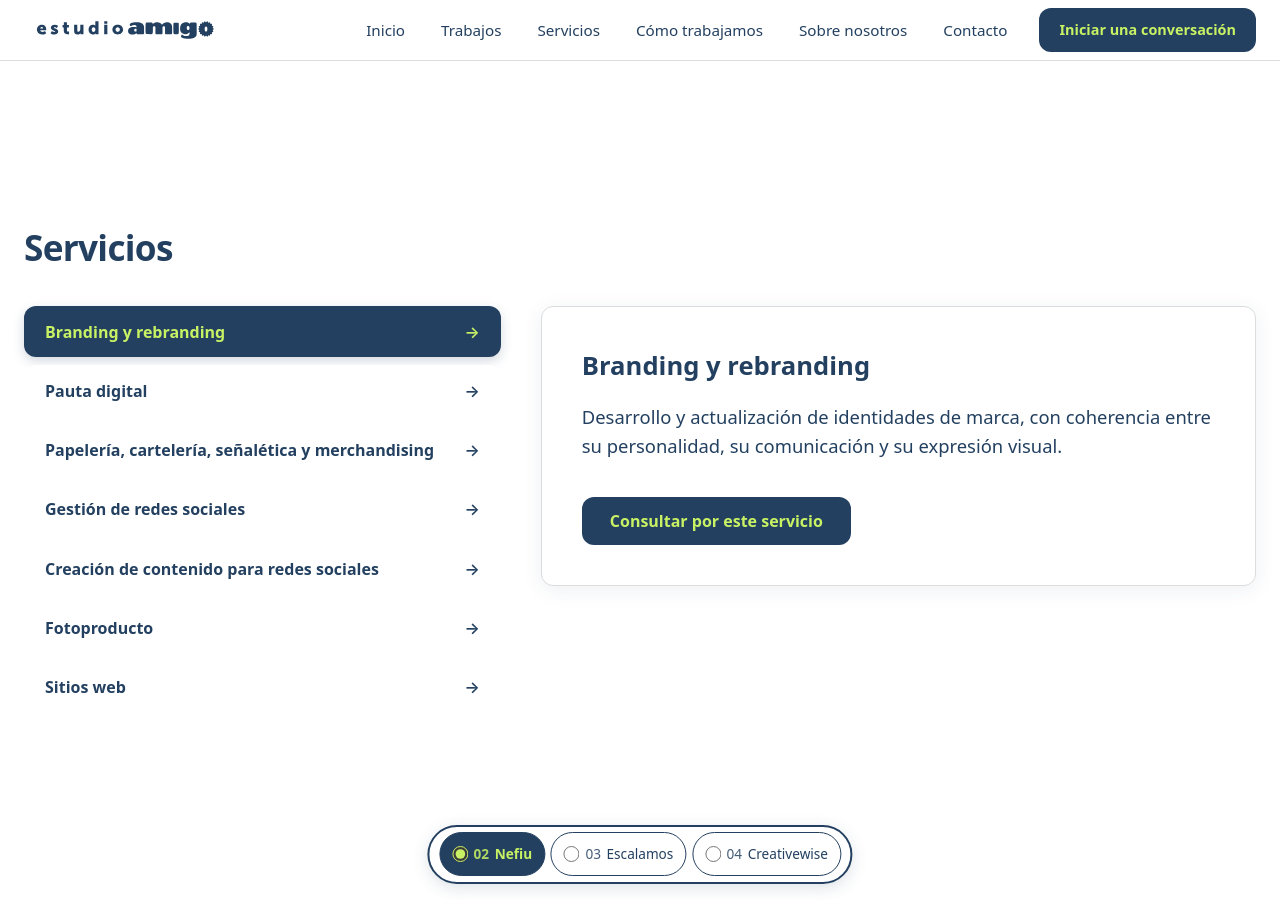
Test case: services are a tablist: first selected, click selects another and shows its summary
The width and height of the screenshot is (1280, 900).
(page scrolled)
Click the tab "Papelería, cartelería, señalética y merchandising →".
click(262, 450)  # box [24,425,501,476]
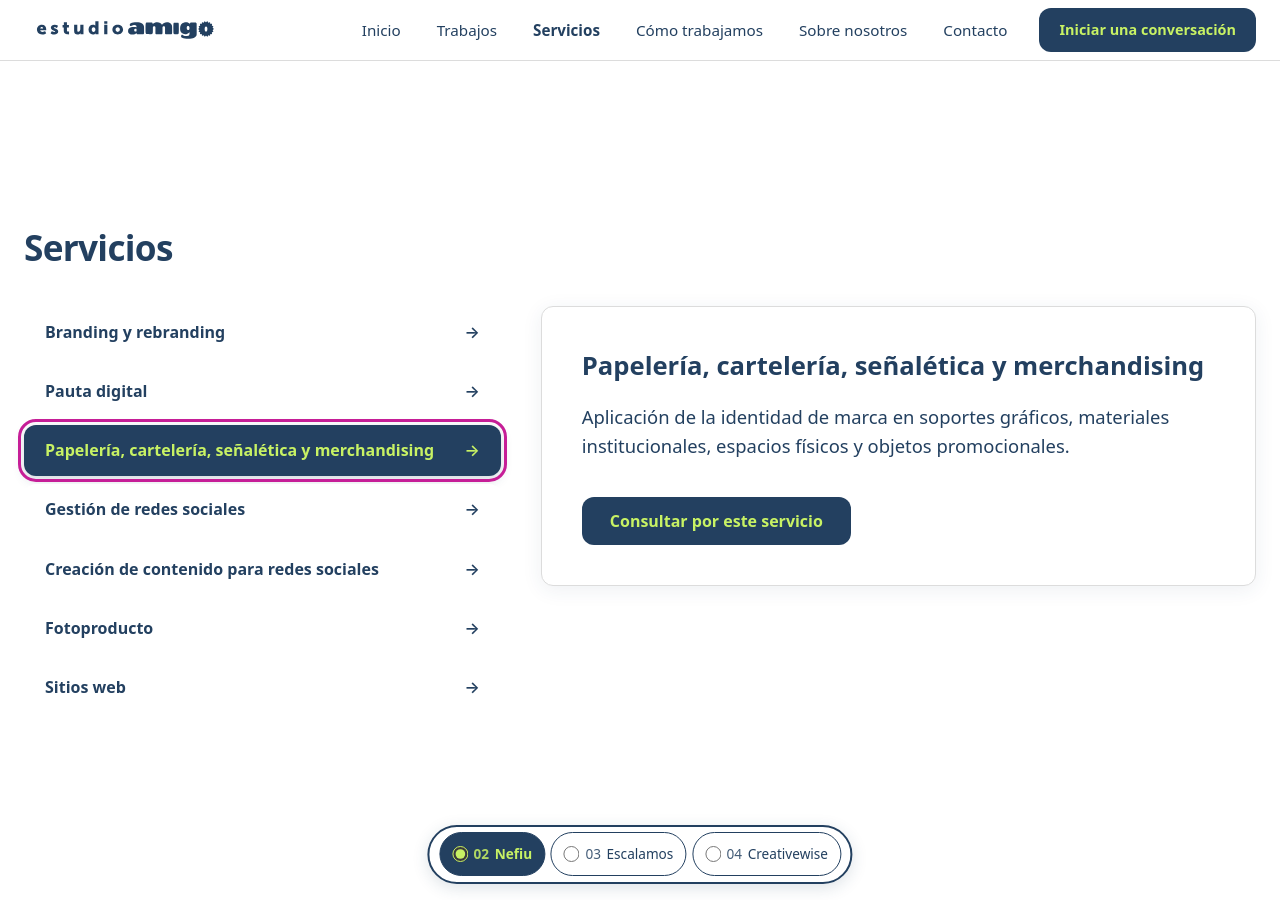
Expected: the panel shows "Aplicación de la identidad de marca en soportes gráficos, materiales institucionales, espacios físicos y objetos promocionales.", [582,404,1169,458]
